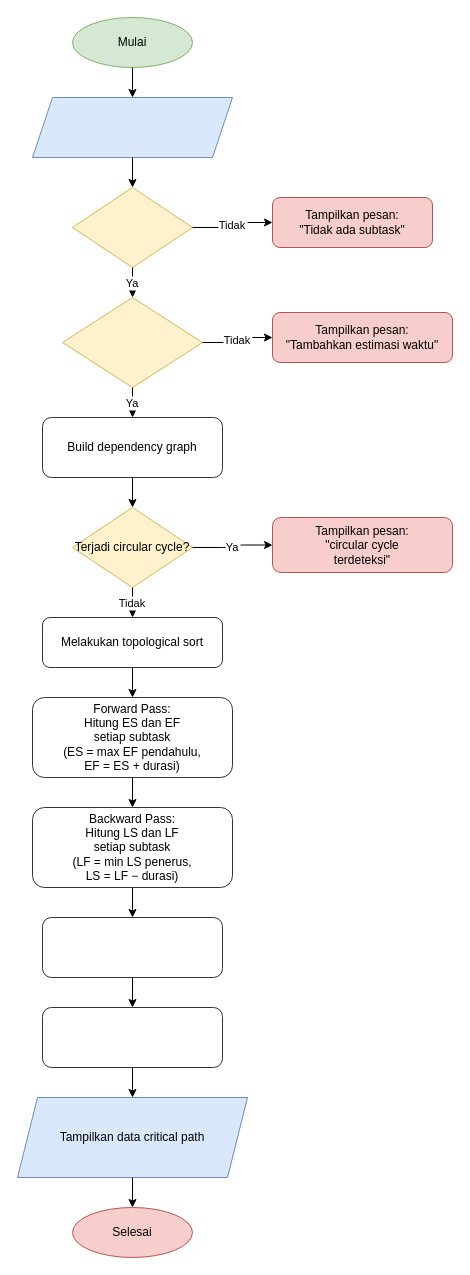
This 470x1275 diagram has some shape labels left out. The centre of each missing label's shape, as x and y in pixels:
"Ada subtask dengan time estimate?" goes at [132,342].
"Ambil seluruh subtask beserta dependensi dari task yang dipilih" goes at [132,127].
"Hitung Slack (Float) setiap subtask: Slack = LS − ES" goes at [132,947].
"Identifikasi critical path: Subtask dengan Slack = 0" goes at [132,1037].
"Subtask ada?" goes at [132,227].
